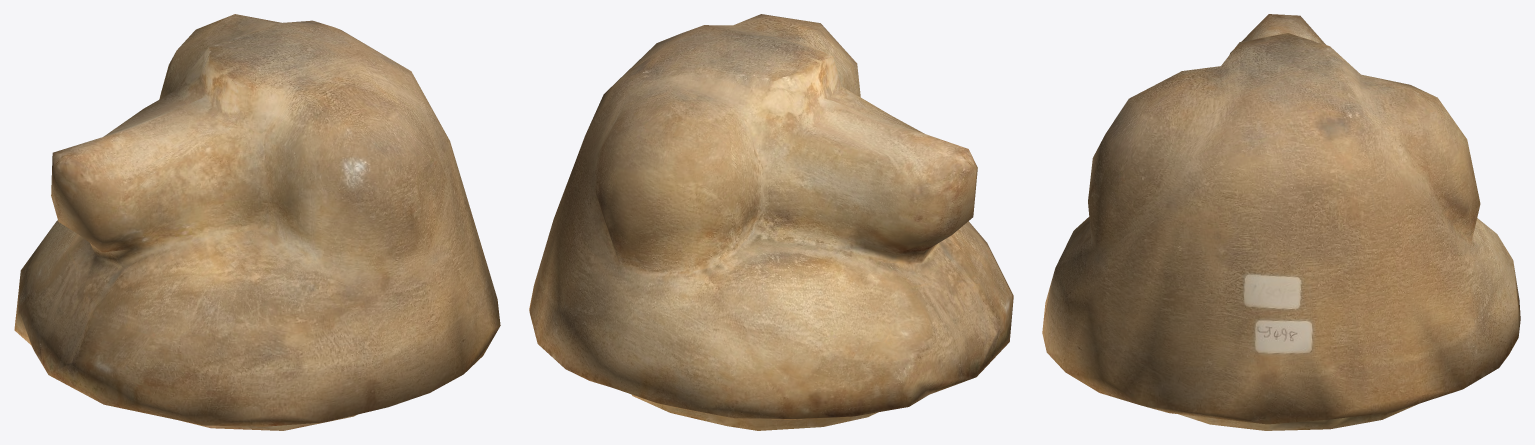
Rendered from canopic.glb.
3 views of the same model, side by side, from view 1: azimuth 30°, elevation 25°; view 2: azimuth 150°, elevation 25°; view 3: azimuth 270°, elevation 25° (orthographic).
Size of the model in its own units: 0.1682 by 0.1229 by 0.1664.
Materials: 1 (1 with a texture image).
